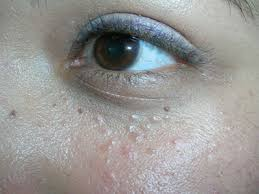pupil: (92, 29, 139, 70)
